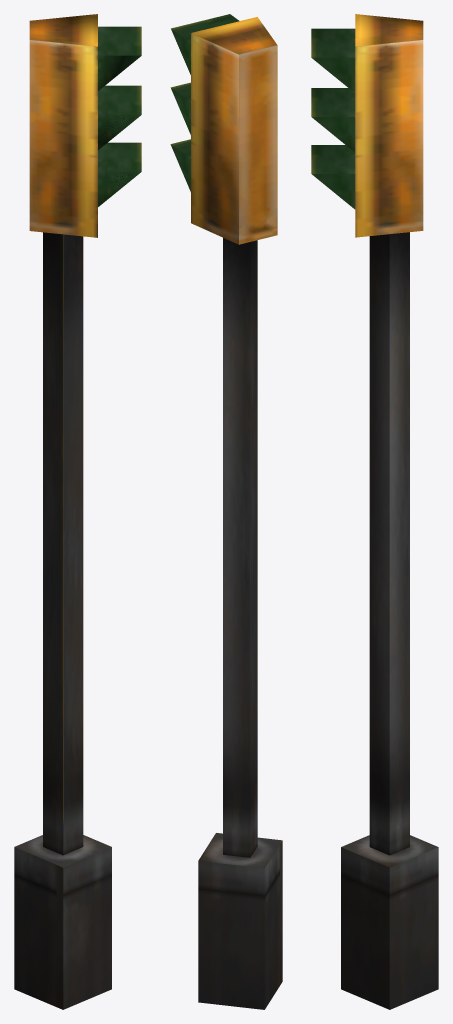
File: Environment - Prop - Signal Lights - PMStpLit02.glb
3 renders of one model, left to right at view 1: azimuth 90°, elevation 25°; view 2: azimuth 210°, elevation 25°; view 3: azimuth 270°, elevation 25°, orthographic.
Parts seen in each view (by area): view 1: PMSTPLIT02; view 2: PMSTPLIT02; view 3: PMSTPLIT02.
Boxes of the visible parts, left/top/right/bottom form: PMSTPLIT02: left=14, top=14, right=141, bottom=1009; PMSTPLIT02: left=170, top=14, right=282, bottom=1009; PMSTPLIT02: left=311, top=14, right=438, bottom=1009.
Bounding box in the file's own units: 2.48 × 26.83 × 3.23.
1 material, 1 textured.
